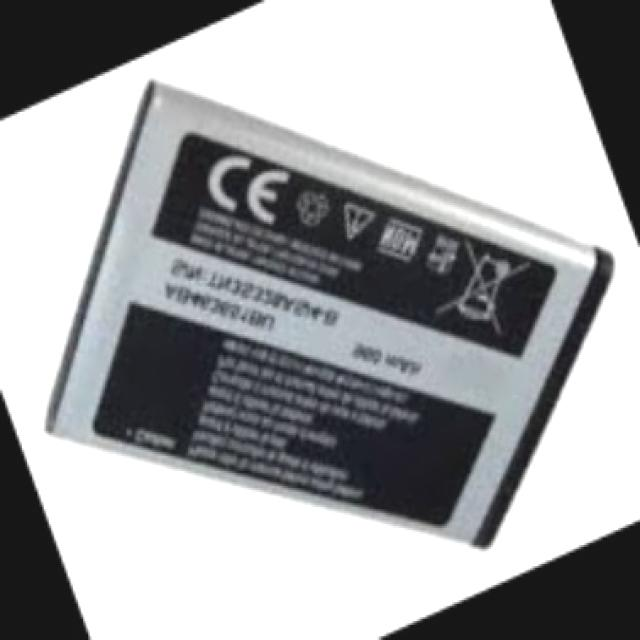B3: (46, 165, 613, 480)
